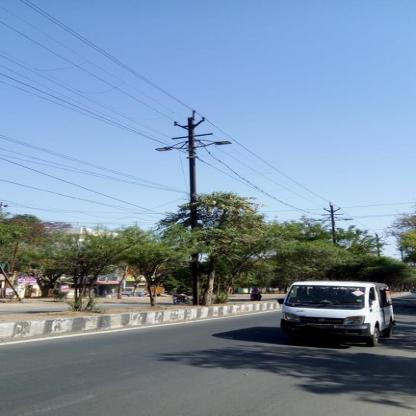Electrical Pole: (157, 106, 243, 307)
